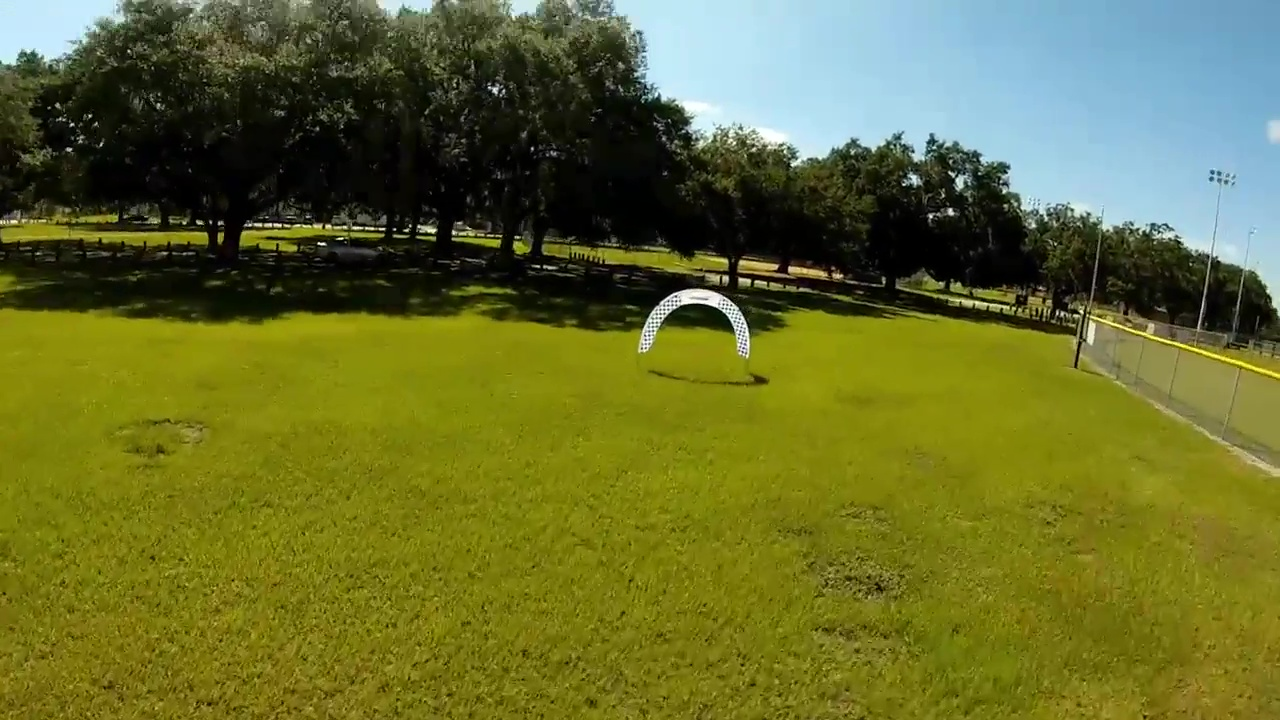gate: (637, 289, 753, 365)
